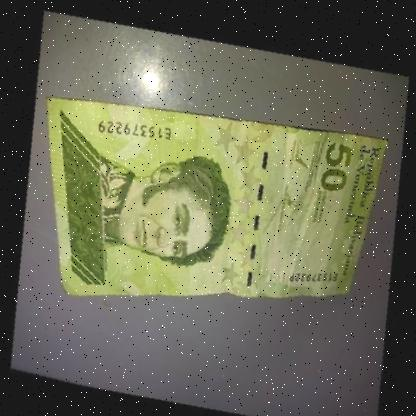vef_front: (0, 27, 399, 383)
